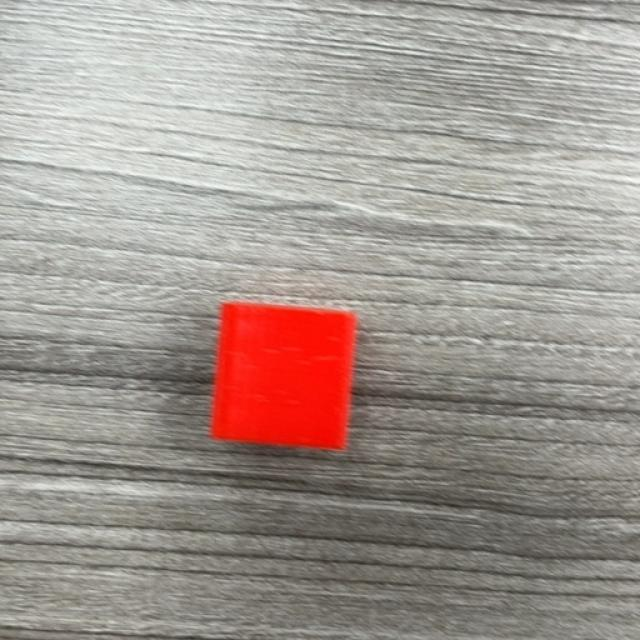Rojo: (210, 302, 358, 454)
